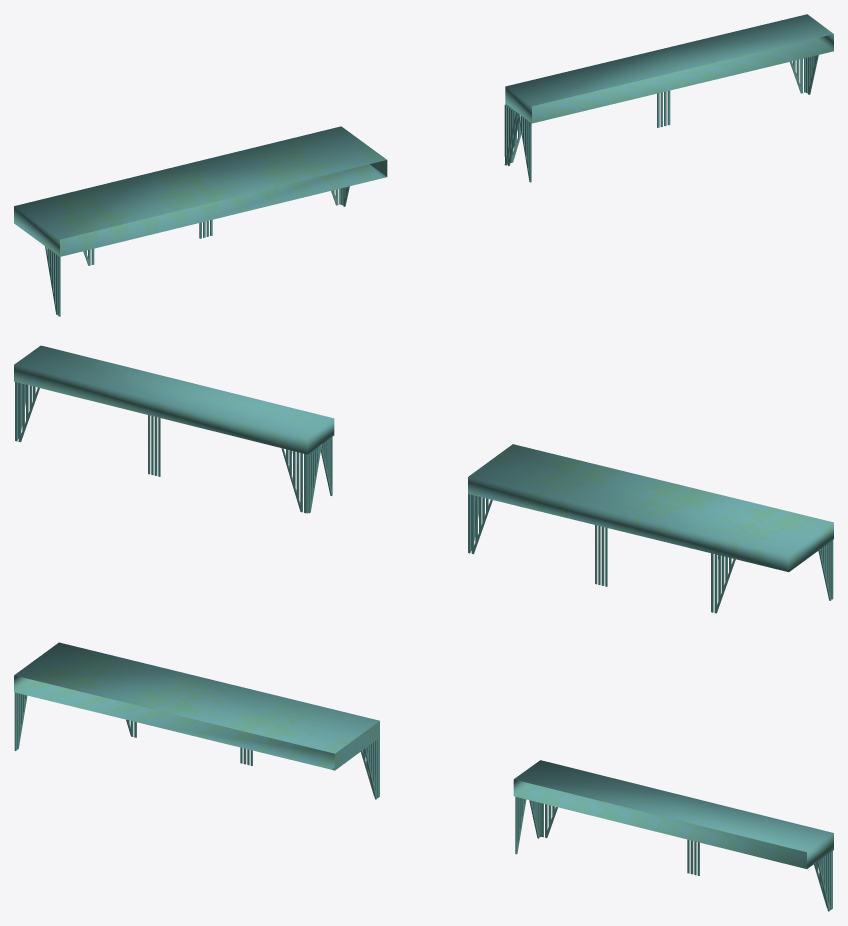
Rendered from TEchitoEdifcio_Esq_Laprida.fbx.
3 renders of one model, top to bottom at view 1: azimuth 30°, elevation 25°; view 2: azimuth 150°, elevation 25°; view 3: azimuth 330°, elevation 25°, orthographic.
Parts seen in each view (by area): view 1: Galeria_EdificioEsq01, Galeria_EdificioEsq02; view 2: Galeria_EdificioEsq01, Galeria_EdificioEsq02; view 3: Galeria_EdificioEsq01, Galeria_EdificioEsq02.
Part boxes in pixels (x1,y1,x2,y2): Galeria_EdificioEsq01: (14, 126, 387, 316); Galeria_EdificioEsq02: (504, 14, 833, 182); Galeria_EdificioEsq01: (468, 444, 833, 613); Galeria_EdificioEsq02: (14, 345, 334, 513); Galeria_EdificioEsq01: (14, 642, 379, 799); Galeria_EdificioEsq02: (513, 760, 833, 911).
Size of the model in its own units: 80.71 by 7.54 by 8.1.
